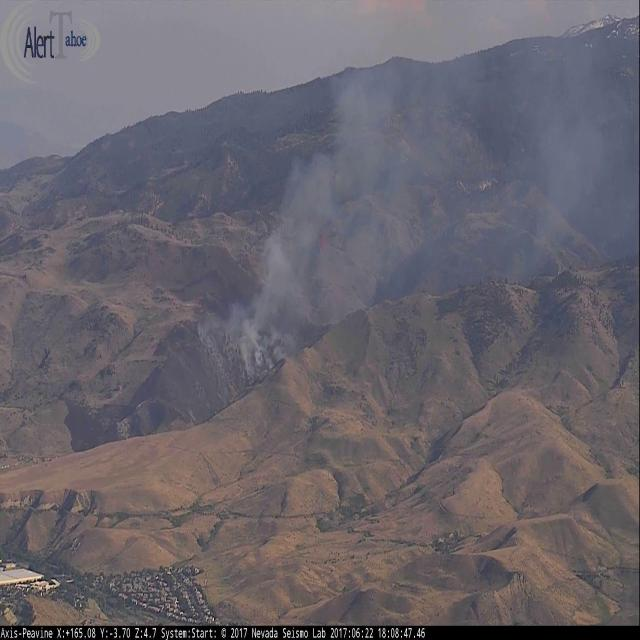smoke: (175, 0, 639, 417)
